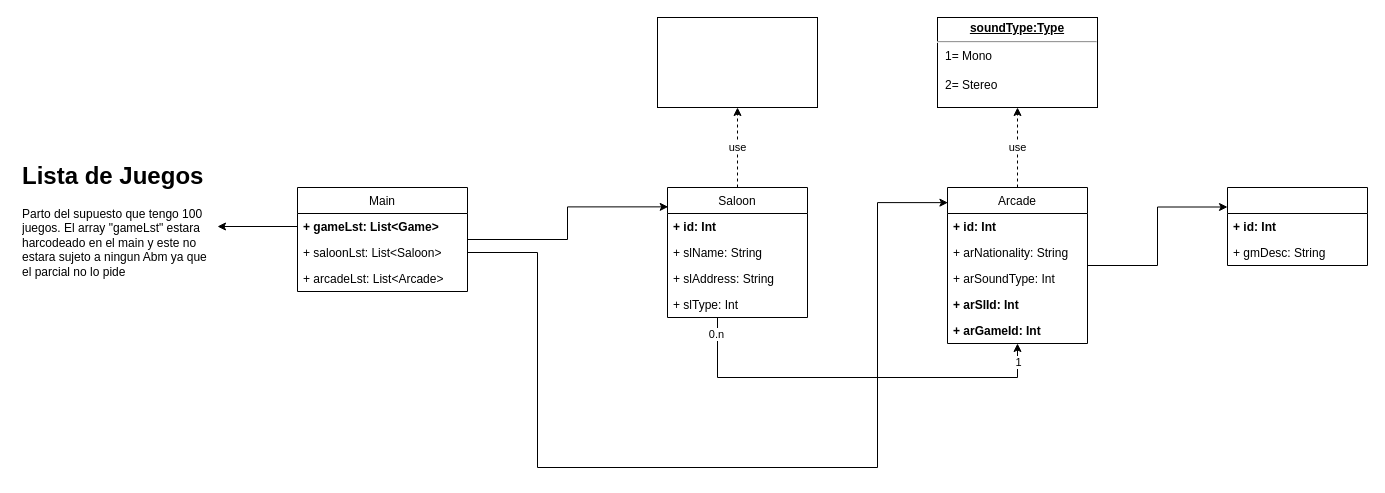
This 1385x493 diagram has some shape labels left out. The box of each missing label's shape, as (x1, y1, x2, y2) in pixels:
Game: (1226, 186, 1368, 266)
slType:Type 1= Shoping 2= Commerce: (656, 16, 818, 108)
